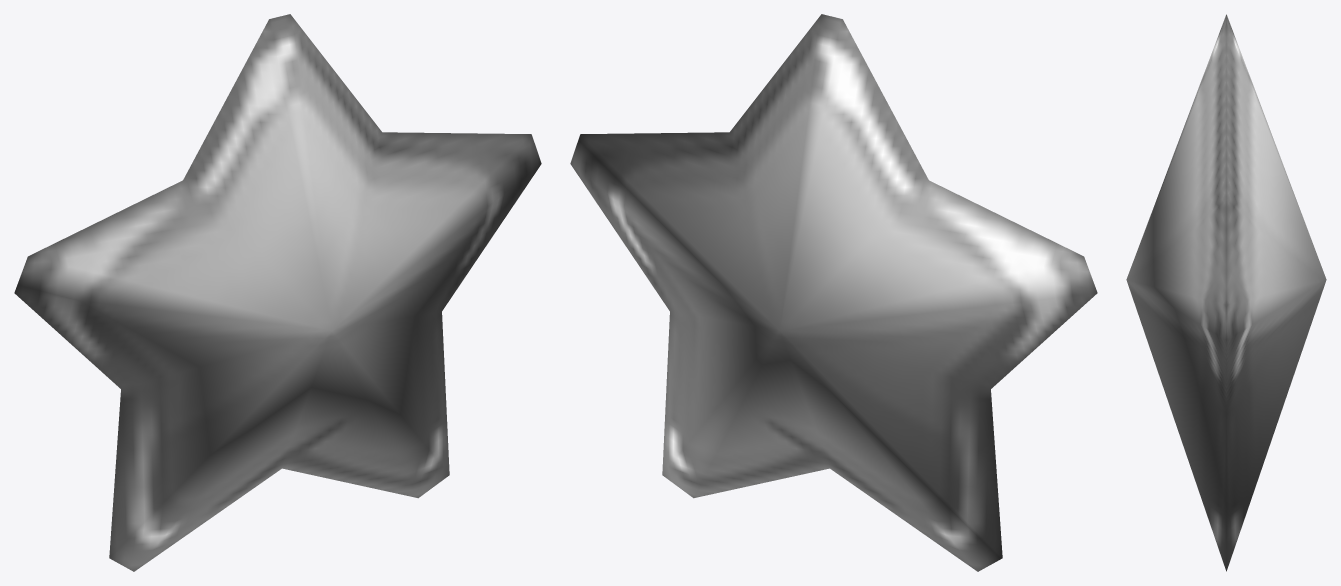
File: scenes_screen_xpotstar01a.FBX
The picture shows the model from 3 angles, left to right: view 1: azimuth 30°, elevation 25°; view 2: azimuth 150°, elevation 25°; view 3: azimuth 270°, elevation 25°; orthographic projection. The views are drawn at different scales.
Visible parts, largest first — view 1: scenes_screen_xpotstar01a; view 2: scenes_screen_xpotstar01a; view 3: scenes_screen_xpotstar01a.
Boxes of the visible parts, x1,y1,x2,y2 form: scenes_screen_xpotstar01a: (14, 14, 541, 571); scenes_screen_xpotstar01a: (570, 14, 1097, 571); scenes_screen_xpotstar01a: (1126, 14, 1326, 571).
Bounding box in the file's own units: 73.32 × 69.05 × 25.42.
